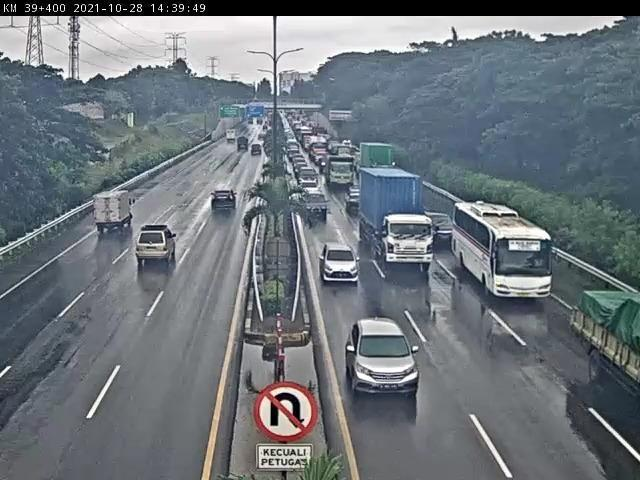bus: (454, 200, 565, 307)
